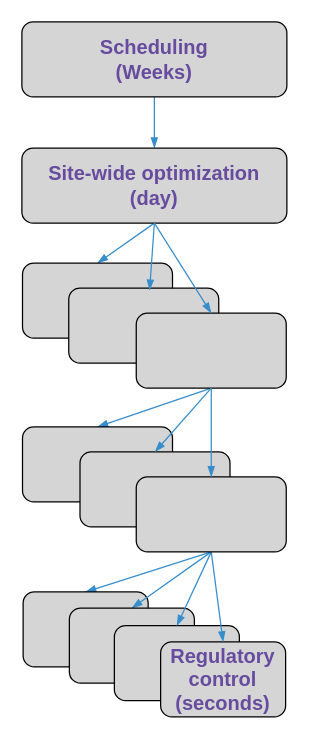
Image size: 309x739. Some labels were removed from this diagram. Here are the shapes that lost their labels. From the top down, the centre of each, then its label:
(x=210, y=350): Local optimization (hour)
(x=210, y=514): Supervisory control (minutes)
